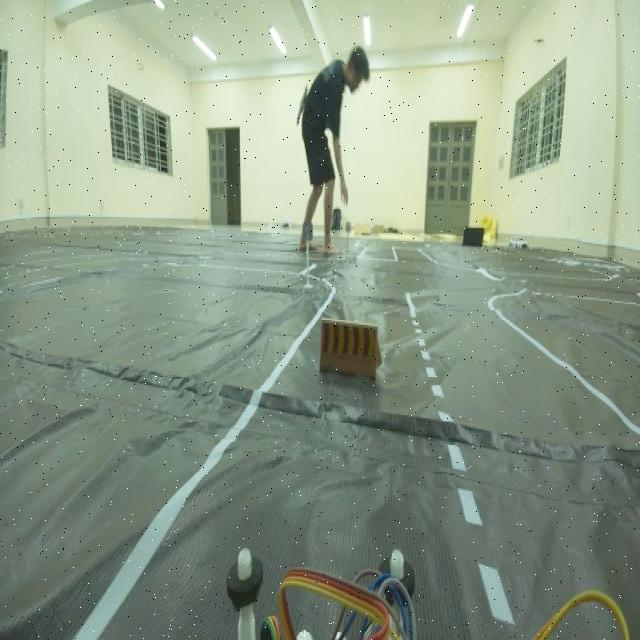roadblock: (313, 313, 387, 392)
